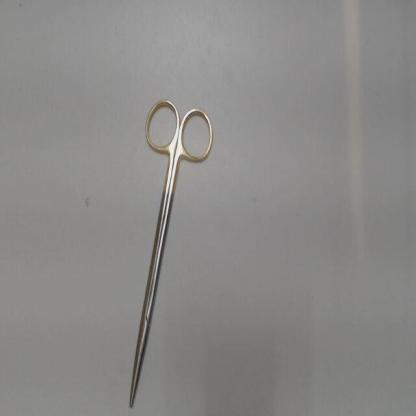7 Metzenbaum Scissors: (126, 95, 217, 414)
